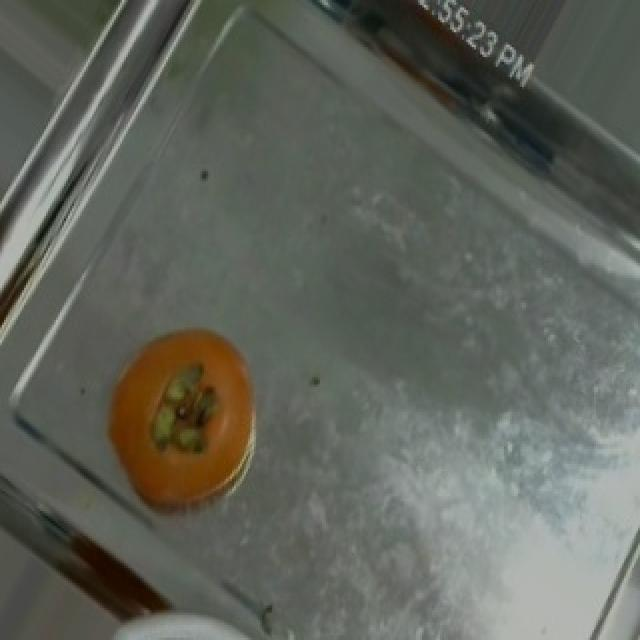Fruit: (80, 305, 282, 528)
